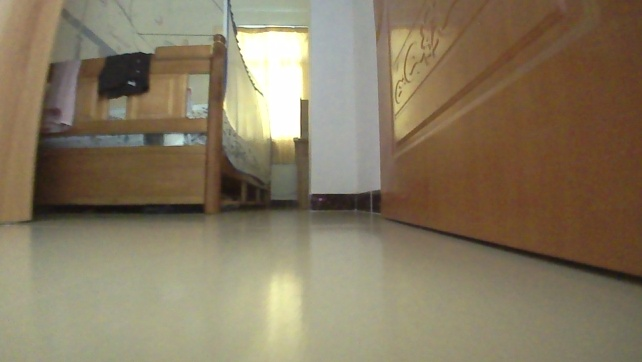bed: (32, 30, 273, 218)
